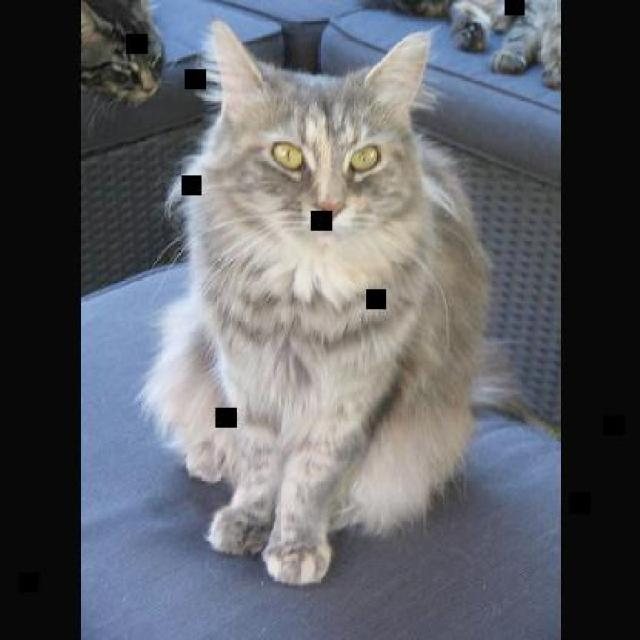unauthorized: (134, 16, 558, 586), (77, 0, 164, 135), (491, 0, 560, 89), (446, 0, 506, 51)
